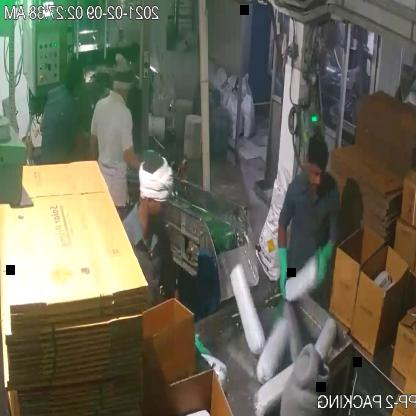glove: (310, 233, 340, 290), (272, 243, 294, 302)
no_glove: (122, 141, 147, 175)
